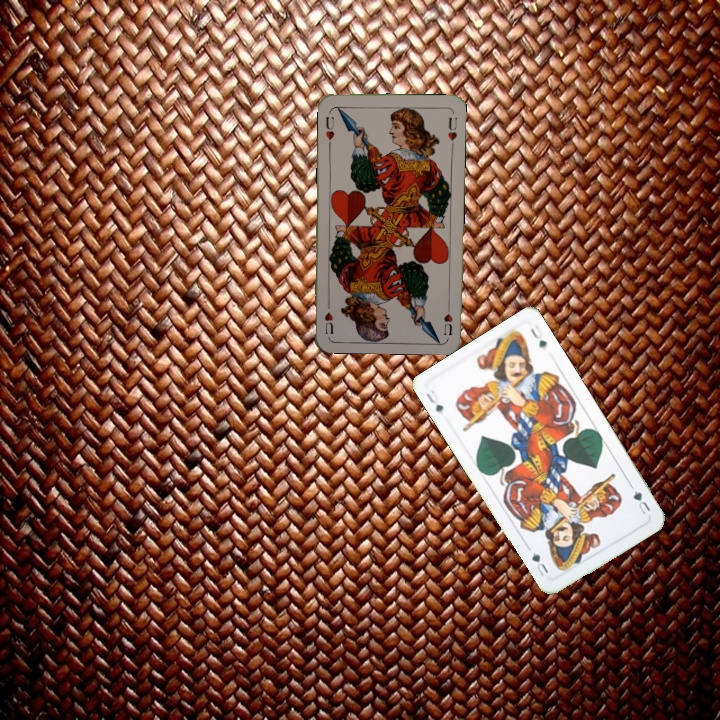GU: (629, 486, 653, 518), (422, 386, 446, 415)
HU: (440, 298, 455, 338), (322, 113, 337, 148)
